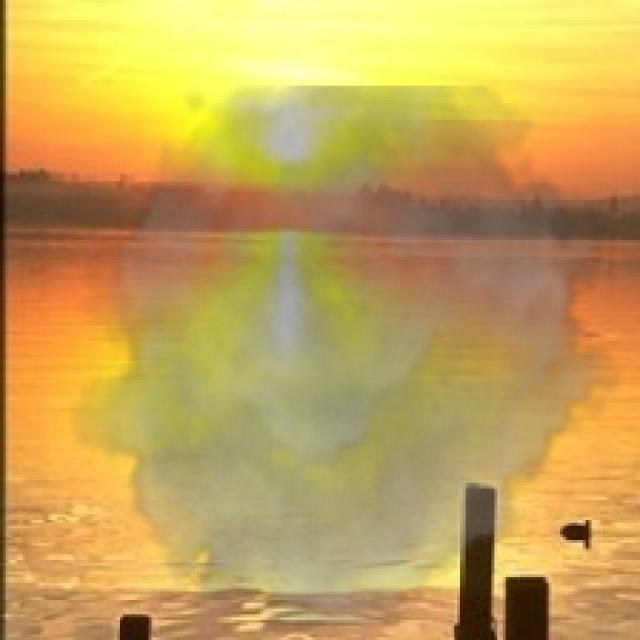Smoke: (69, 85, 626, 626)
